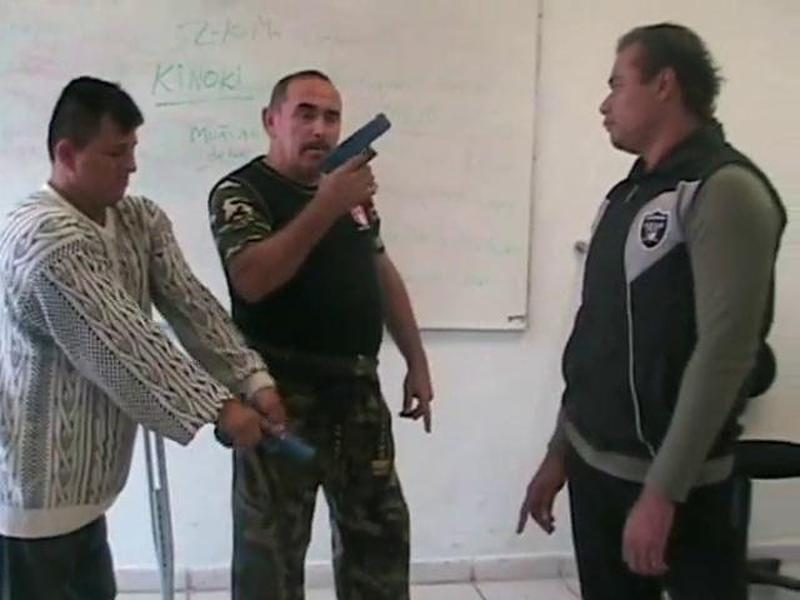Pistola: (311, 95, 406, 215)
